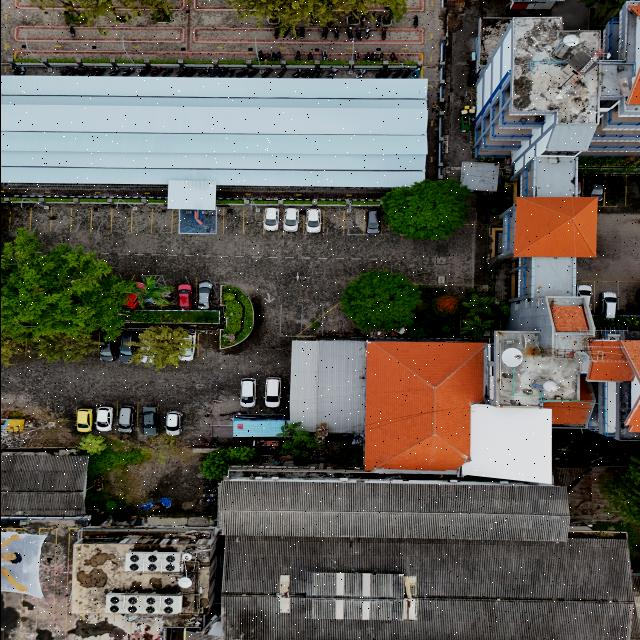Tree: (378, 178, 468, 242), (343, 269, 425, 335), (31, 328, 105, 365), (136, 324, 192, 369), (455, 288, 498, 322), (76, 435, 108, 455), (222, 446, 254, 464)
